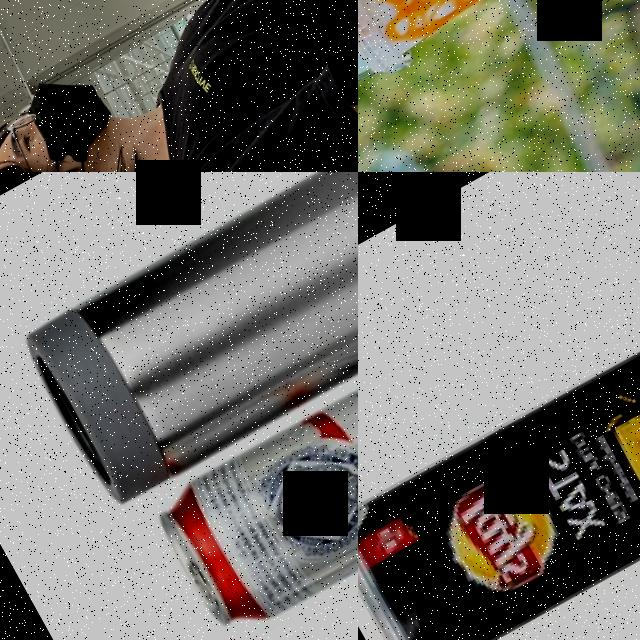can: (140, 286, 358, 640)
cup: (358, 0, 640, 138)
